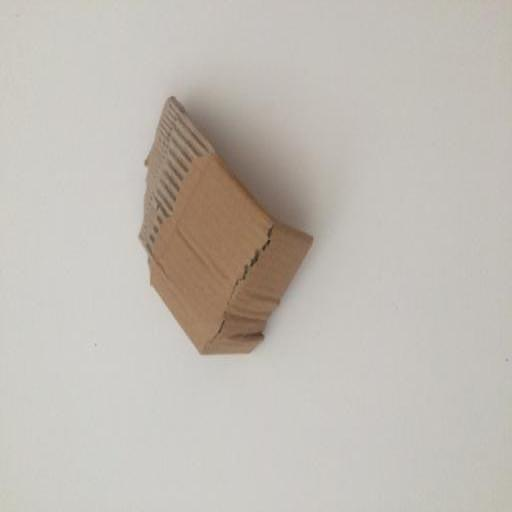waste: (128, 87, 324, 383)
